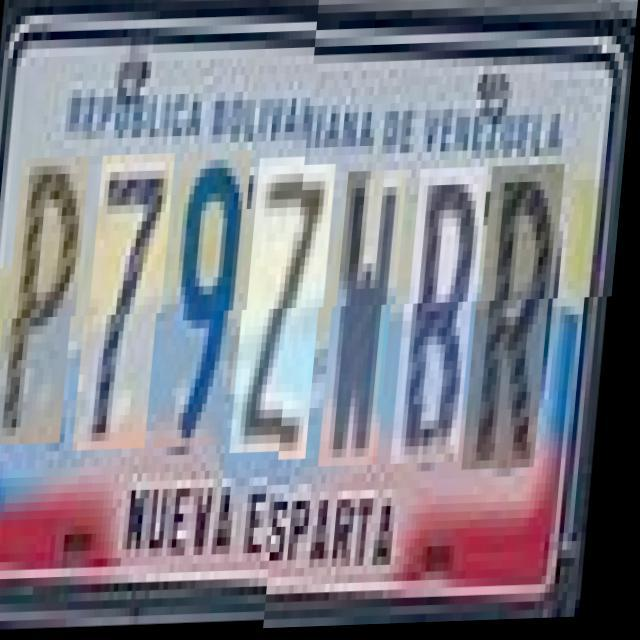7: (84, 163, 178, 460)
9: (166, 161, 254, 457)
B: (404, 171, 492, 467)
P: (4, 165, 92, 454)
R: (476, 168, 568, 474)
W: (332, 173, 411, 469)
Z: (242, 166, 339, 464)
